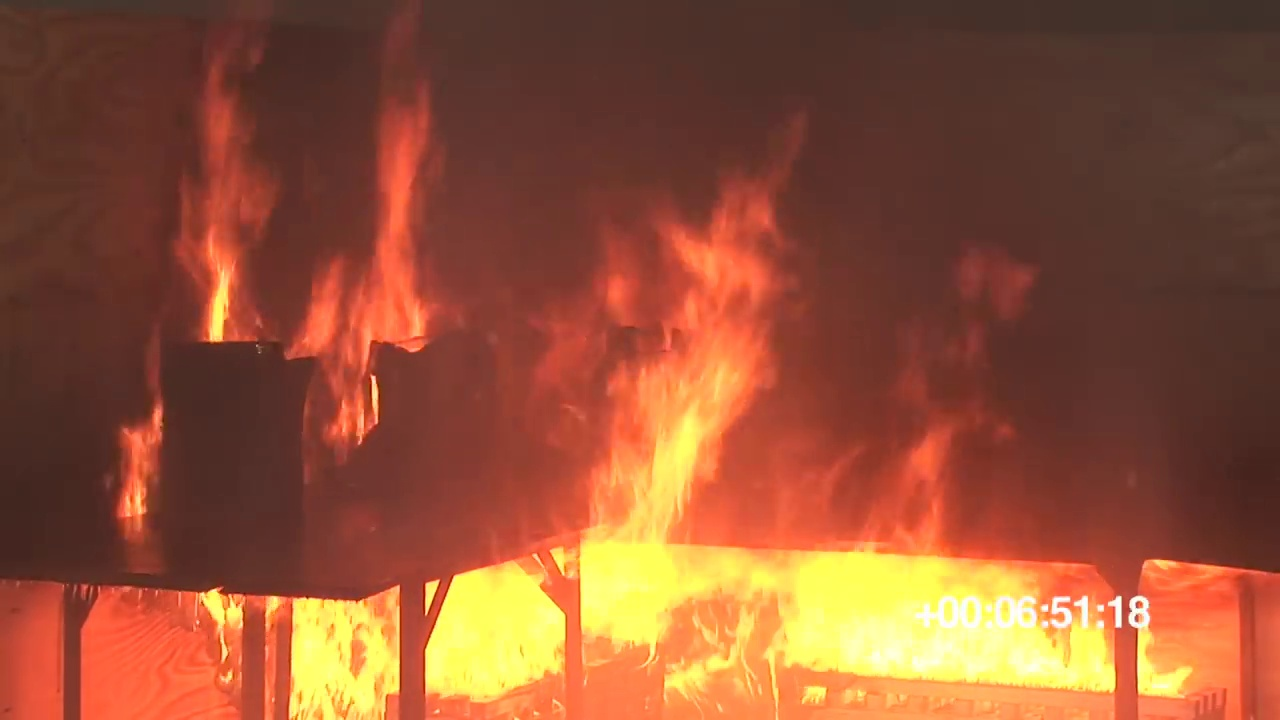fire: (282, 544, 1188, 720), (600, 230, 771, 540), (370, 102, 420, 338), (304, 281, 378, 427), (195, 135, 235, 339), (898, 436, 946, 556), (119, 427, 149, 517)
